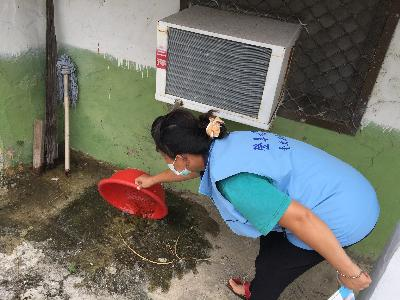bowl: (97, 168, 169, 220)
